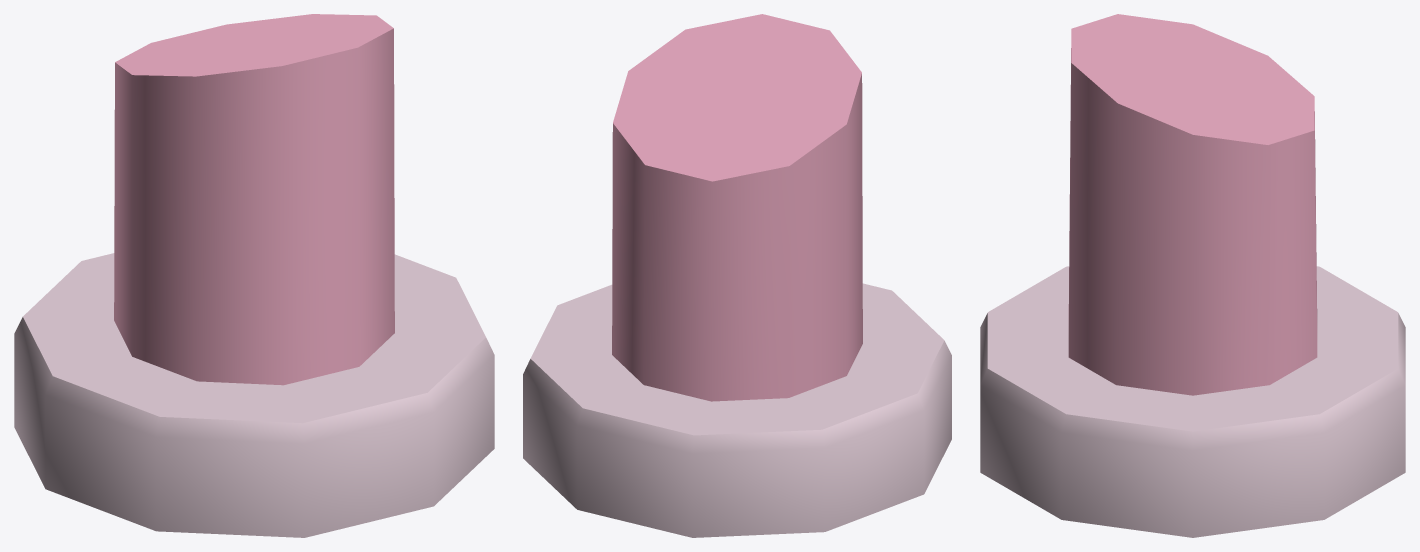
3 views of the same model, side by side, from view 1: azimuth 30°, elevation 25°; view 2: azimuth 150°, elevation 25°; view 3: azimuth 270°, elevation 25° (orthographic). The views are drawn at different scales.
Visible parts, largest first — view 1: Object07; view 2: Object07; view 3: Object07.
Boxes of the visible parts, left/top/right/bottom form: Object07: left=14, top=14, right=494, bottom=537; Object07: left=523, top=14, right=951, bottom=537; Object07: left=980, top=14, right=1405, bottom=537.
Size of the model in its own units: 66.58 by 65.35 by 63.32.
